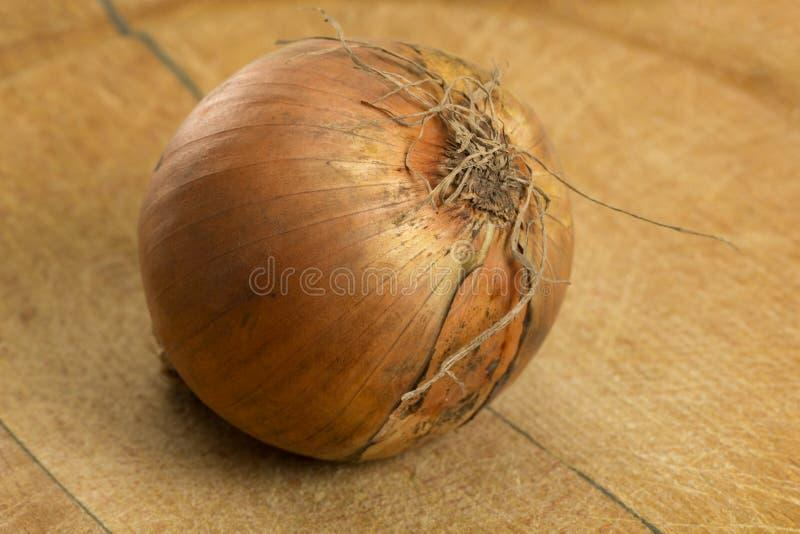Onion: (138, 33, 585, 461)
